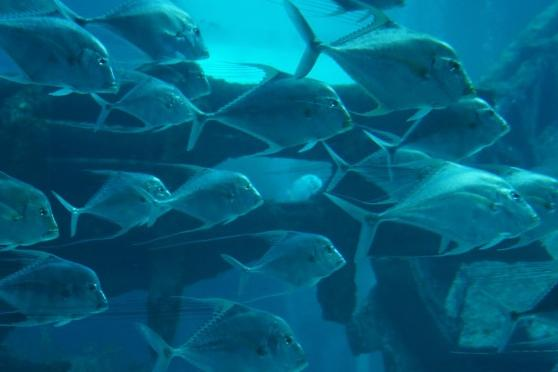Carangidae -Jacks-: (276, 0, 476, 127), (325, 152, 538, 269), (152, 53, 355, 149), (131, 280, 324, 372), (0, 243, 119, 350), (0, 1, 122, 94), (118, 161, 265, 232), (208, 219, 351, 290), (48, 0, 209, 61)
